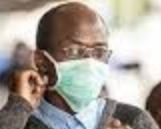with_facemask: (60, 59, 105, 101)
